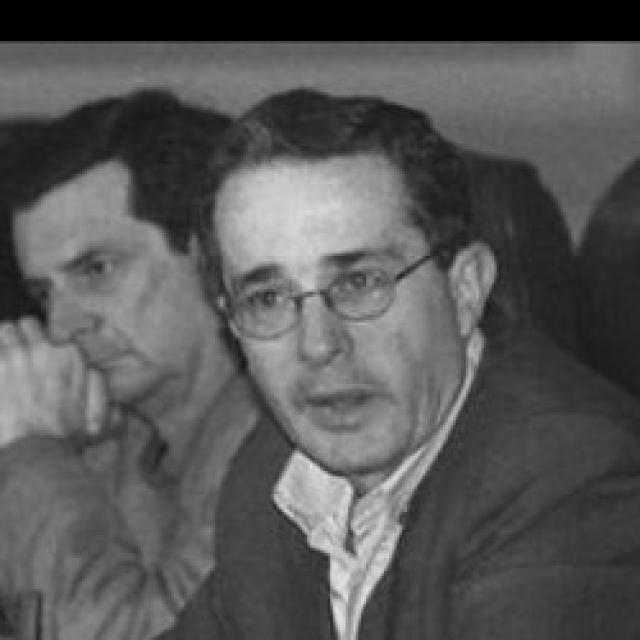real: (198, 142, 484, 480), (225, 252, 427, 325)
